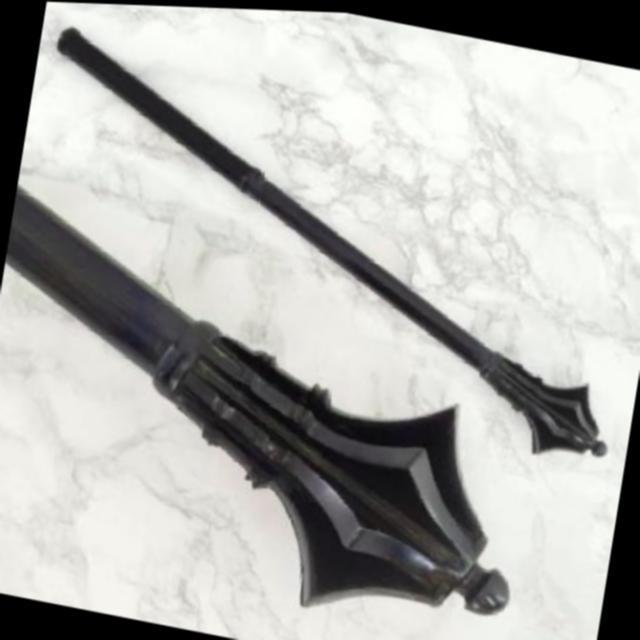weapon: (8, 20, 640, 458), (0, 178, 561, 640), (622, 412, 624, 414)
